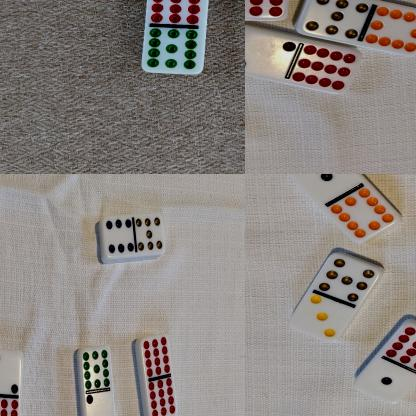pip-1: (352, 363, 414, 405), (285, 174, 356, 199)
pip-10: (329, 189, 397, 243), (364, 8, 416, 58)
pip-11: (140, 26, 204, 76), (81, 347, 110, 391)
pip-12: (292, 47, 360, 91), (143, 0, 208, 27), (385, 324, 416, 371), (142, 334, 171, 378), (147, 379, 176, 416), (245, 0, 287, 19), (0, 399, 19, 416)
pip-2: (245, 26, 296, 76), (0, 348, 21, 397), (84, 392, 115, 416)
pip-3: (286, 296, 349, 342)
pip-6: (102, 214, 135, 262)
pip-7: (318, 252, 378, 304), (298, 0, 367, 41), (134, 213, 164, 257)
